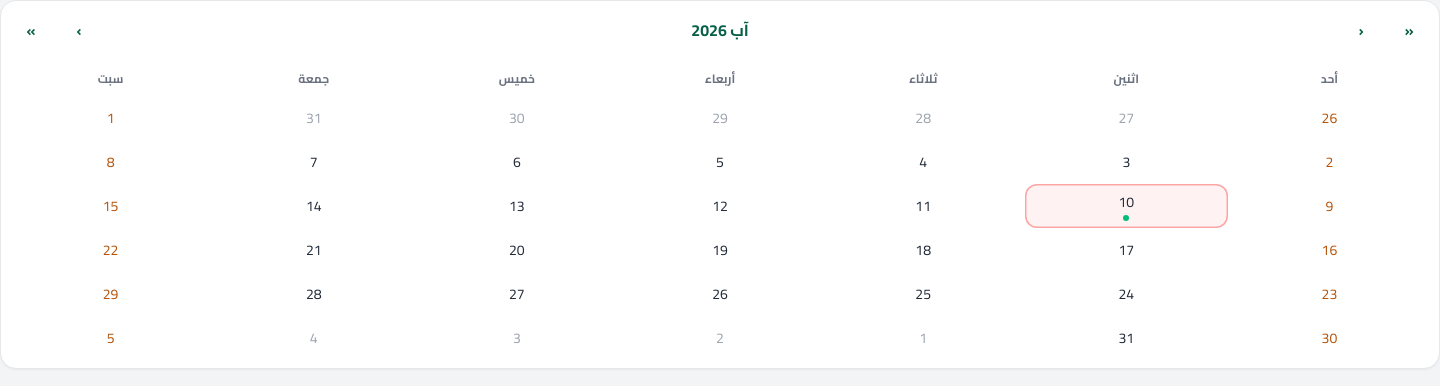
Test: LawyerCalendar › يتنقل بين الشهور بأزرار التنقل المسماة ويحدّث البلاطات
The width and height of the screenshot is (1440, 386).
Expected: the text "آب 2026" is shown, [691,15,749,45]
// أيلول: لا تذكيرات.
What coordinates should you click on to do the following:
click the button named "الشهر التالي"
I would click on:
 (79, 31)
Its box is [57,9,101,53].
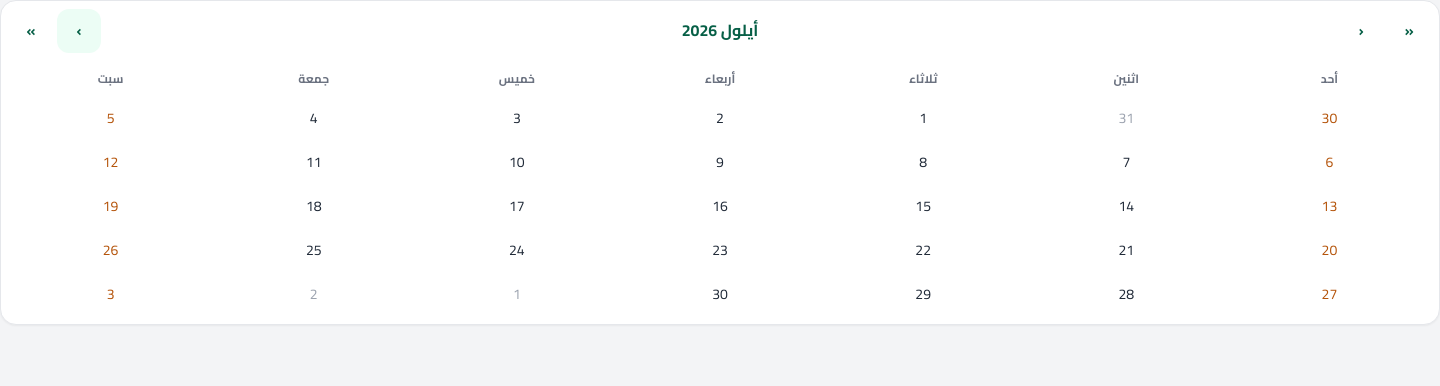
Now the text "أيلول 2026" is shown, box [682,15,758,45]
Now no buttons are shown
// عودة لآب: يعود التمييز.
What coordinates should you click on to do the following:
click the button named "الشهر السابق"
I would click on:
 (1361, 31)
Its box is [1339,9,1383,53].
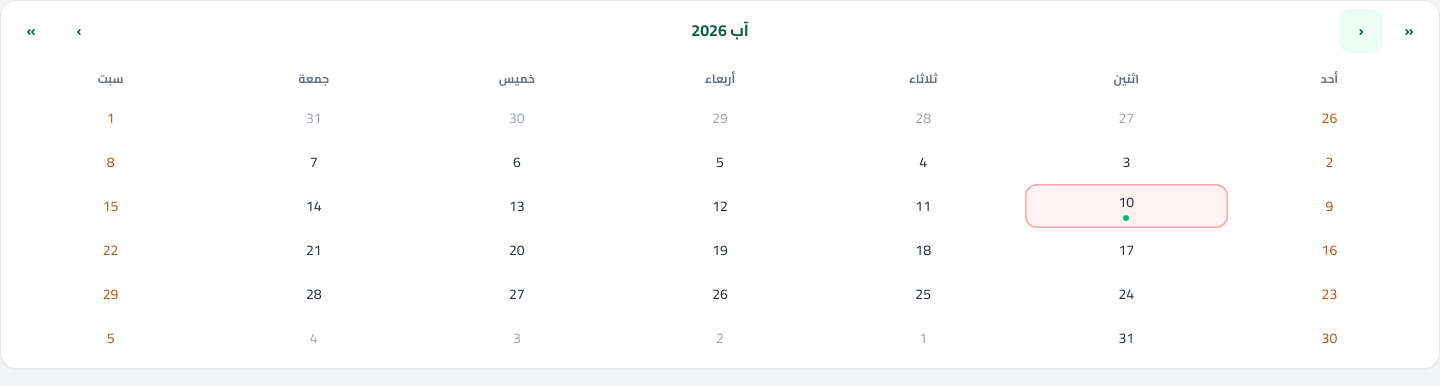
Now the text "آب 2026" is shown, box [691,15,749,45]
